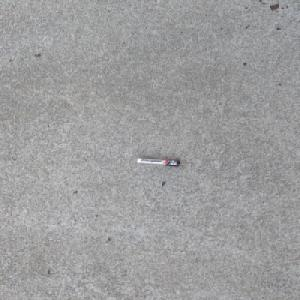Battery: (135, 157, 181, 167)
